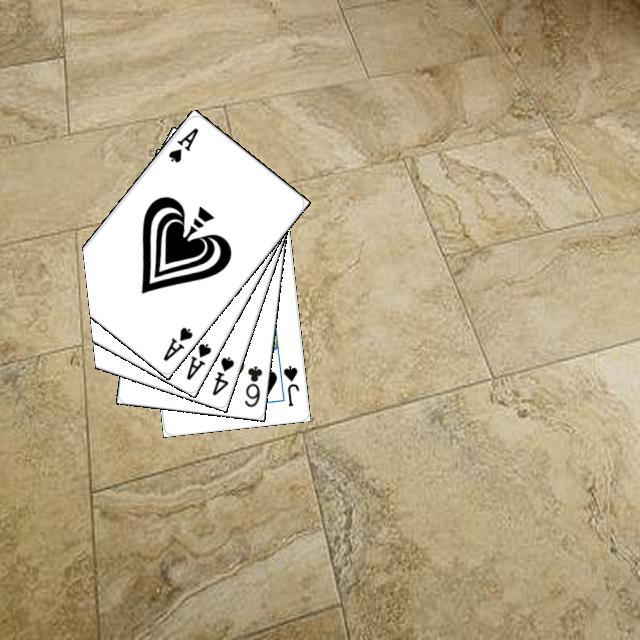4s: (207, 351, 236, 397)
6c: (239, 361, 264, 409)
As: (163, 123, 200, 164), (158, 322, 194, 363), (181, 338, 213, 382)
Js: (278, 361, 301, 408)
